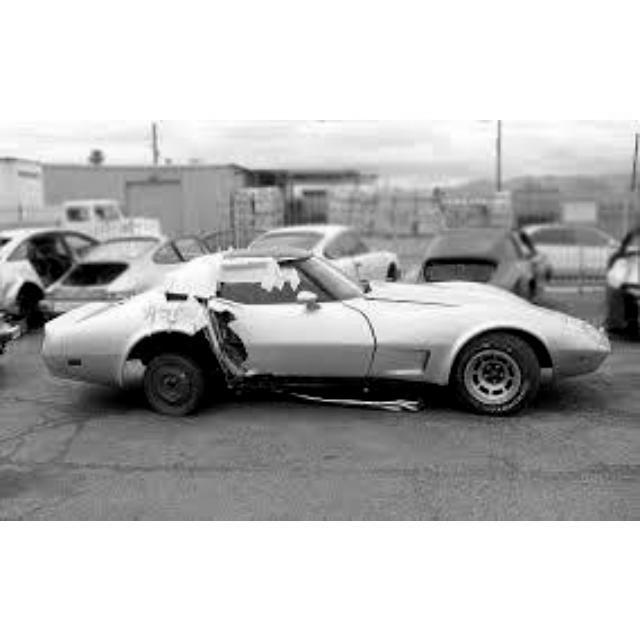doorouter-dent: (217, 306, 304, 382)
quaterpanel-dent: (133, 291, 207, 349)
